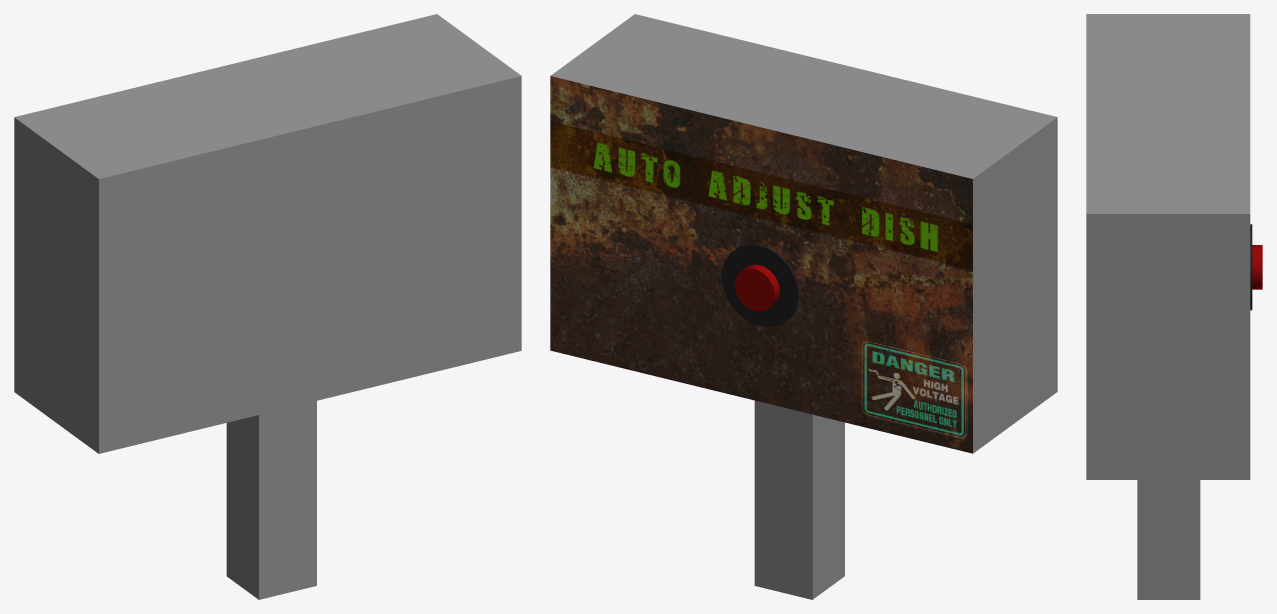
Rendered from interaction.FBX.
The picture shows the model from 3 angles, left to right: view 1: azimuth 30°, elevation 25°; view 2: azimuth 150°, elevation 25°; view 3: azimuth 270°, elevation 25°; orthographic projection. The views are drawn at different scales.
Parts seen in each view (by area): view 1: Box001, Box002; view 2: faceplate, Box001, Box002, Cylinder001, Cylinder002; view 3: Box001, Box002, Cylinder002, Cylinder001.
Boxes of the visible parts, left/top/right/bottom form: Box001: left=14, top=14, right=521, bottom=453; Box002: left=226, top=401, right=316, bottom=599; faceplate: left=550, top=76, right=972, bottom=453; Box001: left=550, top=14, right=1057, bottom=453; Box002: left=754, top=400, right=844, bottom=599; Cylinder001: left=721, top=244, right=799, bottom=327; Cylinder002: left=734, top=264, right=779, bottom=311; Box001: left=1086, top=14, right=1250, bottom=479; Box002: left=1137, top=480, right=1200, bottom=599; Cylinder002: left=1252, top=245, right=1262, bottom=289; Cylinder001: left=1250, top=224, right=1252, bottom=310.
Bounding box in the file's own units: 45.76 × 50.21 × 17.06.
4 materials, 1 textured.
